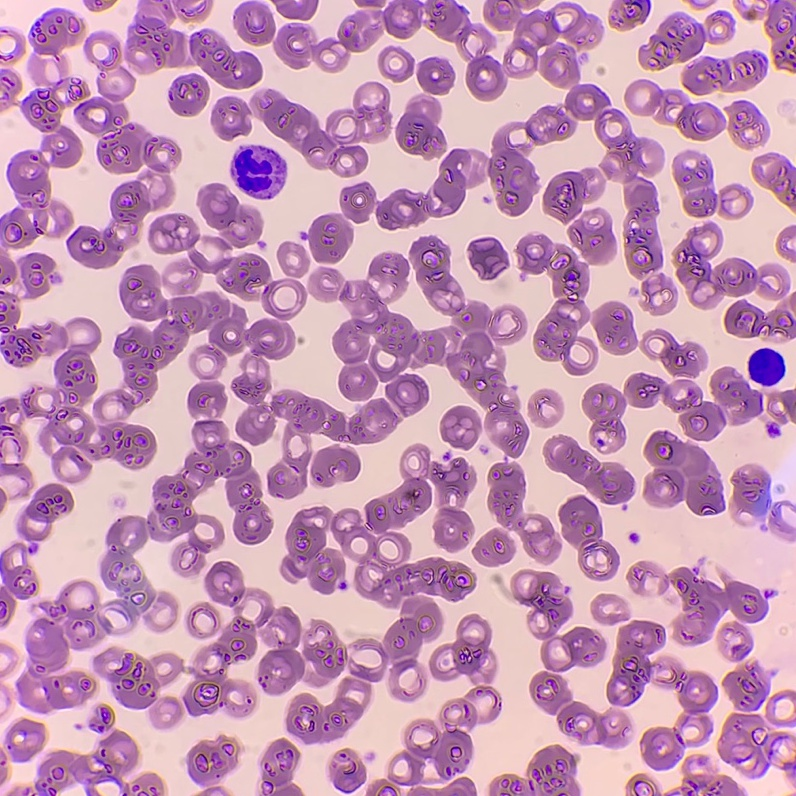RBC: (274, 0, 662, 276), (17, 420, 272, 712), (94, 265, 396, 498), (282, 446, 475, 700), (333, 237, 528, 456), (67, 33, 180, 268), (184, 561, 346, 716), (0, 11, 88, 284), (0, 344, 155, 482), (583, 367, 795, 452), (607, 621, 716, 769), (251, 82, 390, 176), (517, 236, 597, 374), (389, 686, 500, 784), (674, 223, 787, 308), (512, 570, 605, 671), (163, 253, 305, 319), (433, 129, 537, 215), (286, 664, 382, 742), (669, 568, 766, 645), (530, 672, 629, 746), (488, 463, 560, 560), (644, 431, 723, 514), (34, 731, 137, 794), (544, 436, 633, 503), (625, 80, 722, 140), (93, 648, 182, 708), (673, 151, 750, 218), (639, 14, 731, 69), (559, 496, 618, 580), (1, 293, 67, 366), (490, 746, 579, 795), (430, 615, 495, 681), (125, 0, 185, 71), (189, 31, 261, 88), (198, 184, 261, 246), (718, 714, 777, 775), (683, 53, 763, 94), (543, 168, 603, 221), (0, 543, 37, 627), (396, 96, 445, 158), (18, 484, 72, 540), (725, 295, 795, 338), (642, 330, 706, 376), (231, 151, 286, 198), (569, 209, 615, 263), (681, 756, 743, 795), (187, 737, 238, 784), (753, 154, 795, 209), (261, 739, 301, 795), (593, 302, 636, 354), (376, 190, 432, 228), (309, 214, 352, 262), (766, 0, 795, 71), (724, 664, 767, 711), (732, 464, 768, 515), (149, 214, 196, 253), (312, 447, 359, 486), (729, 101, 767, 147), (211, 97, 250, 139), (441, 406, 480, 448), (234, 4, 274, 44), (169, 75, 208, 115), (5, 720, 44, 760), (19, 253, 53, 298), (470, 238, 507, 279), (330, 749, 365, 791), (340, 183, 375, 222), (474, 531, 513, 566), (417, 58, 453, 94), (188, 382, 225, 416), (719, 623, 752, 661), (748, 349, 783, 384), (642, 275, 673, 314), (609, 0, 649, 29), (379, 48, 413, 81), (410, 778, 476, 795), (187, 603, 219, 637), (150, 697, 182, 727), (278, 243, 307, 276), (312, 268, 341, 299), (0, 448, 29, 479), (123, 773, 163, 795), (0, 69, 21, 109), (628, 562, 655, 593), (529, 390, 556, 420), (275, 0, 317, 19), (768, 512, 795, 541), (173, 0, 209, 20), (777, 225, 795, 261), (90, 705, 114, 730), (593, 608, 618, 624), (367, 780, 386, 795), (85, 0, 113, 10), (355, 639, 376, 649), (0, 752, 7, 782), (745, 7, 762, 19), (596, 594, 613, 605), (356, 0, 384, 6), (784, 761, 795, 775), (10, 787, 28, 795), (1, 56, 13, 64), (15, 35, 24, 45), (0, 492, 5, 505), (790, 691, 795, 701), (0, 644, 4, 652)
